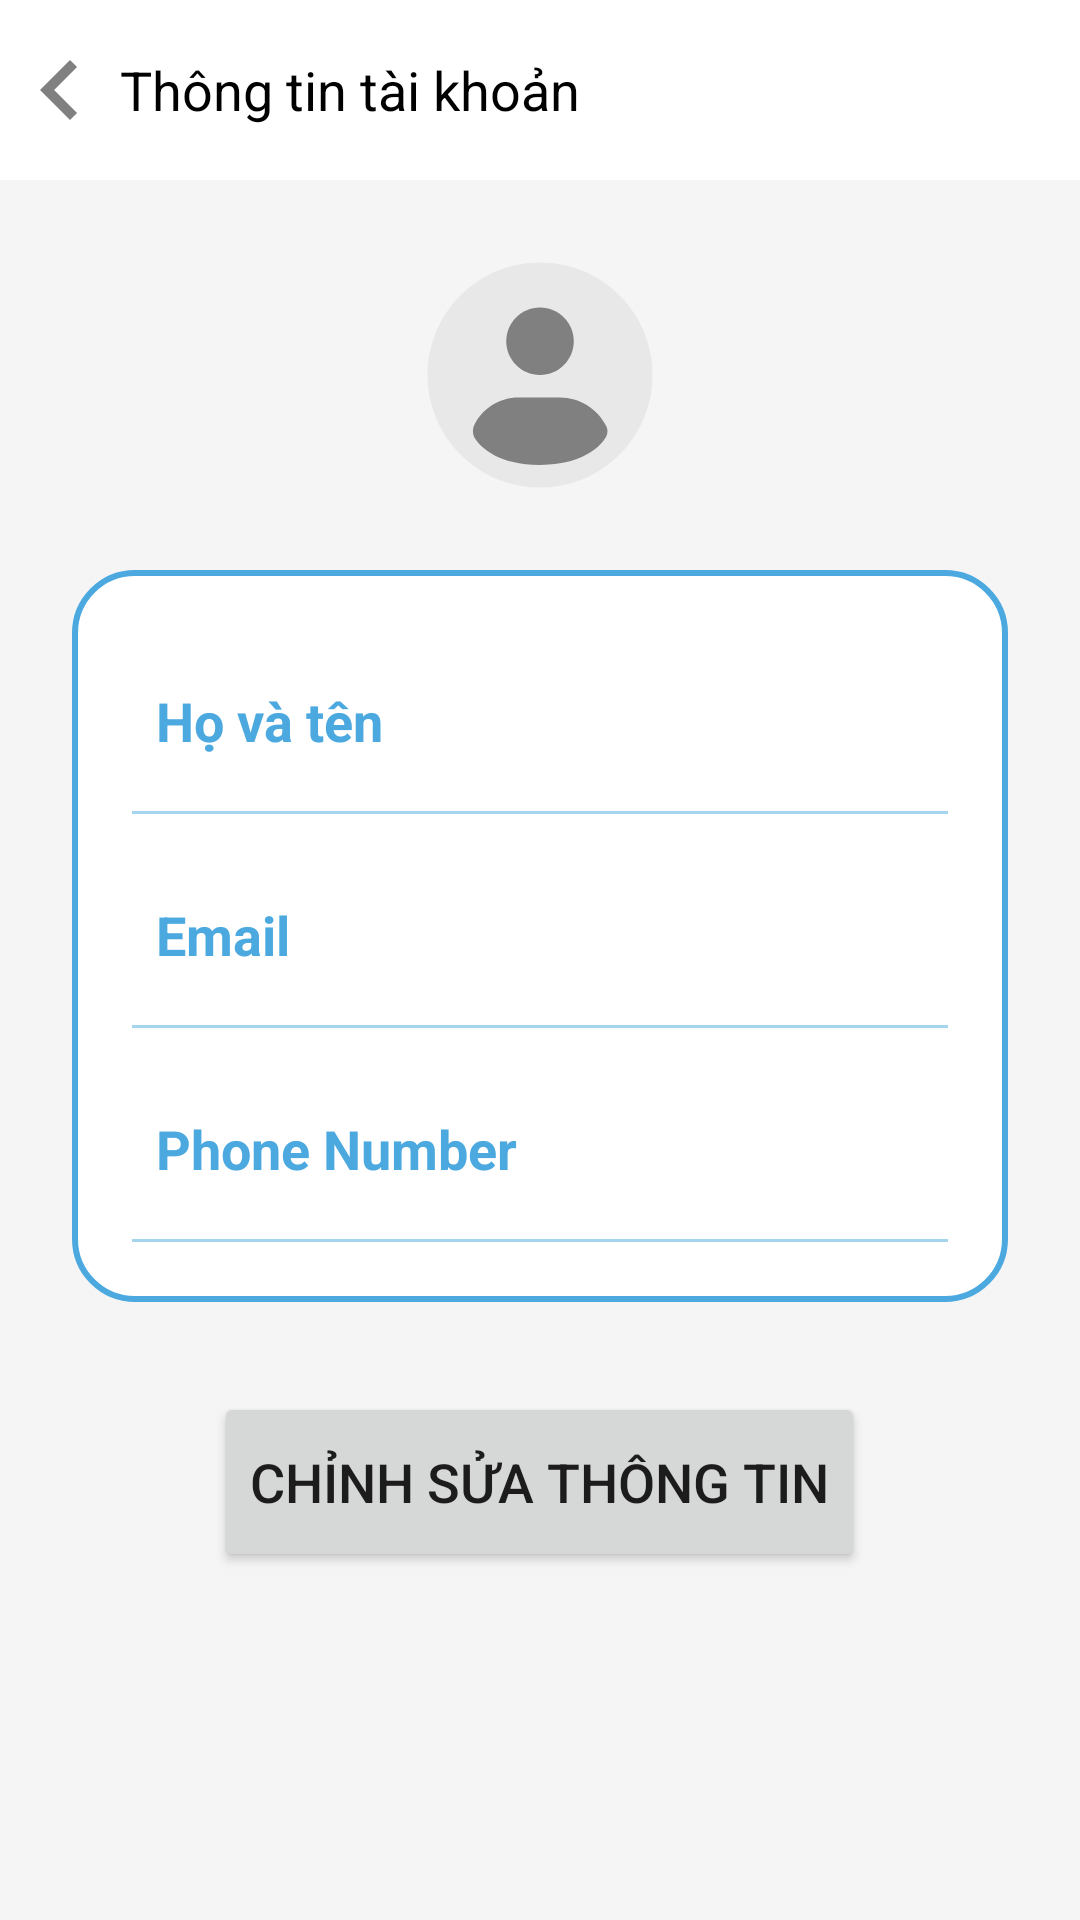

Screen size 1080w x 1920h. Icon name, then its center in pixels as (x=x, y=y):
user account circle: (x=540, y=386)
